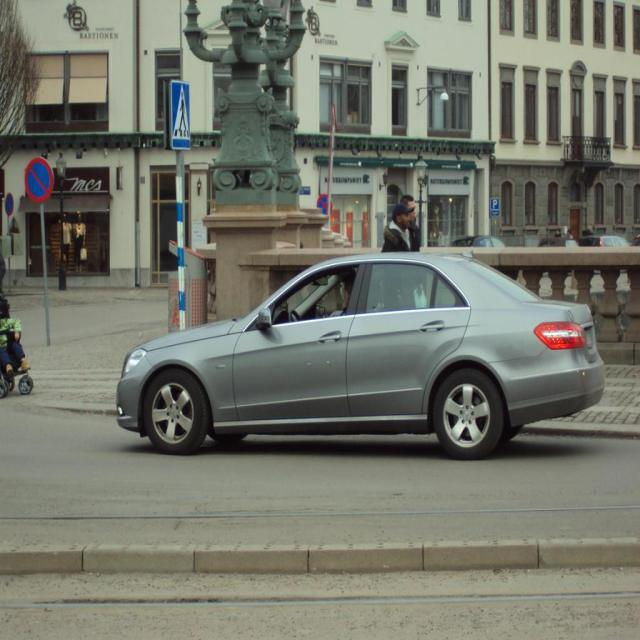car: (98, 248, 604, 459)
